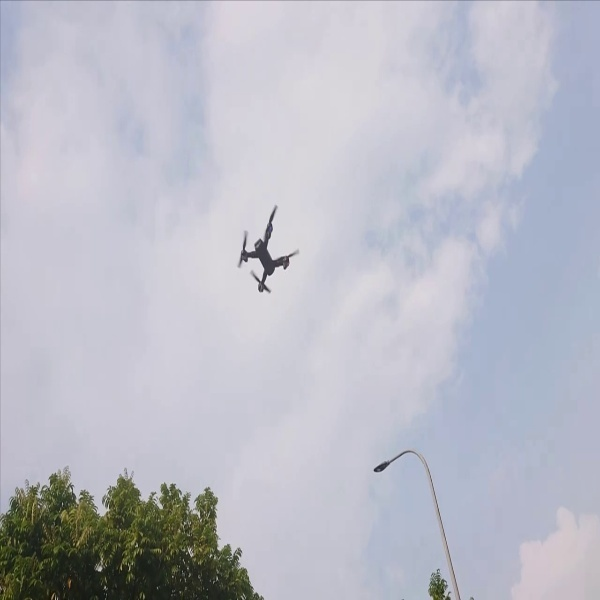drone: (231, 200, 304, 298)
